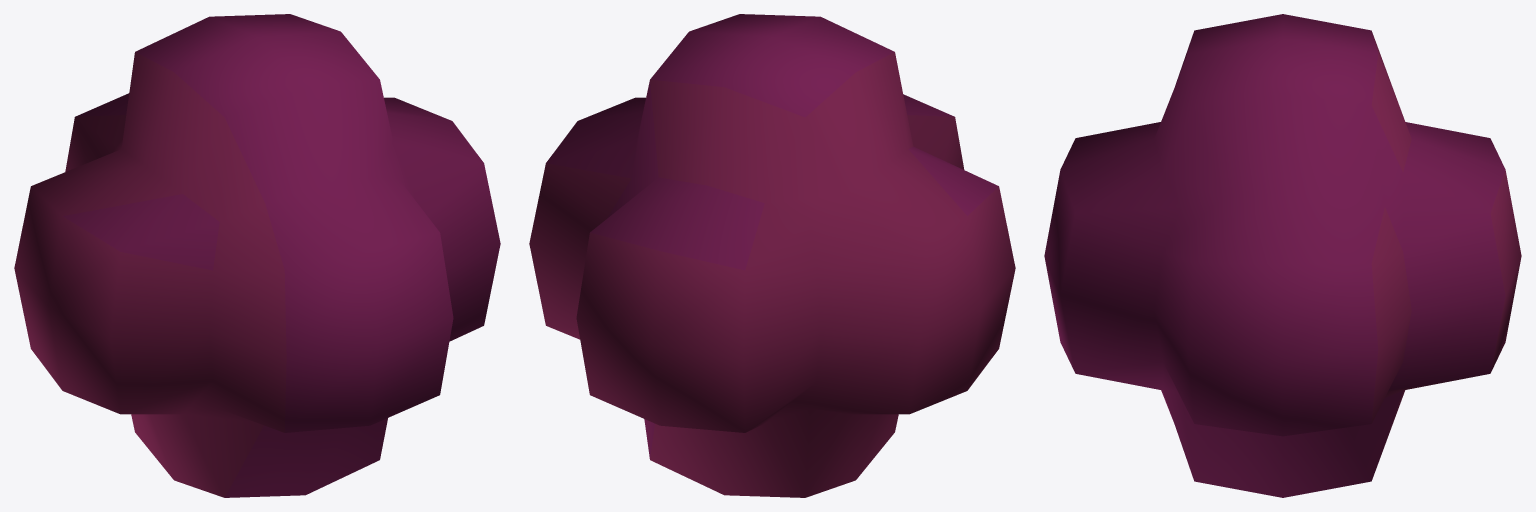
The model's file is ParticleTacoM.obj.
The picture shows the model from 3 angles, left to right: view 1: azimuth 30°, elevation 25°; view 2: azimuth 150°, elevation 25°; view 3: azimuth 270°, elevation 25°; orthographic projection.
Visible parts, largest first — view 1: Mesh_35; view 2: Mesh_35; view 3: Mesh_35.
Part boxes in pixels (x1=…): Mesh_35: x1=14, y1=14, x2=500, y2=497; Mesh_35: x1=529, y1=14, x2=1015, y2=497; Mesh_35: x1=1044, y1=14, x2=1521, y2=497.
Bounding box in the file's own units: 0.7163 × 0.7163 × 0.7163.
1 material, 1 textured.
